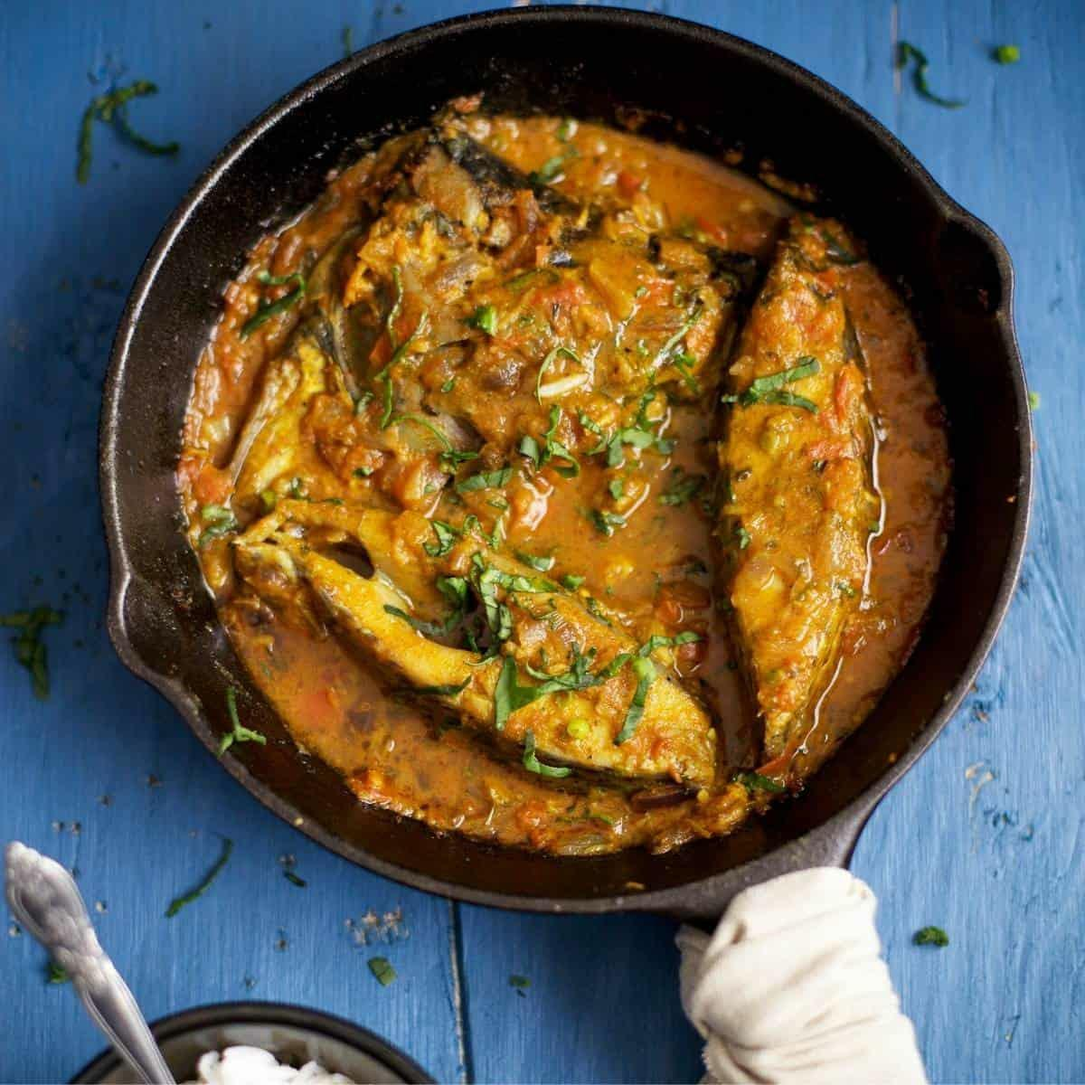FishCurry: (173, 100, 949, 859)
